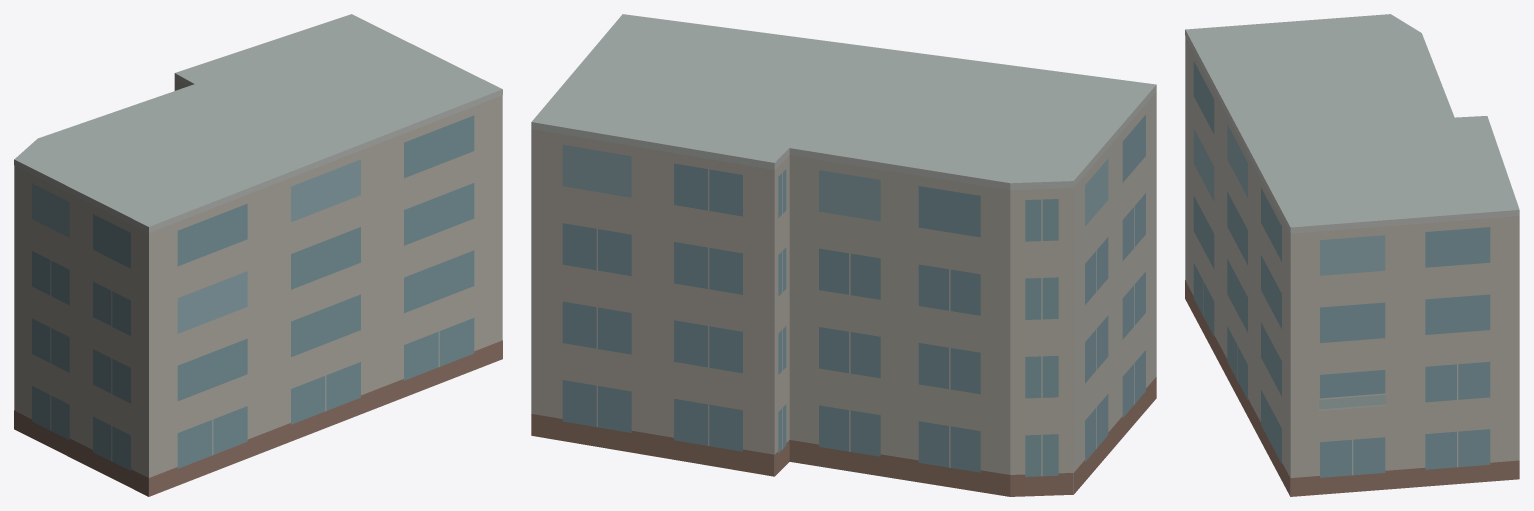
Rendered from survey-upis-32746595.glb.
The picture shows the model from 3 angles, left to right: view 1: azimuth 30°, elevation 25°; view 2: azimuth 150°, elevation 25°; view 3: azimuth 270°, elevation 25°; orthographic projection. The views are drawn at different scales.
Parts seen in each view (by area): view 1: survey-upis-32746595.tmp; view 2: survey-upis-32746595.tmp; view 3: survey-upis-32746595.tmp.
Part boxes in pixels (x1,y1,x2,y2): survey-upis-32746595.tmp: (14,14,502,496); survey-upis-32746595.tmp: (531,14,1156,496); survey-upis-32746595.tmp: (1185,14,1519,496).
Size of the model in its own units: 18.54 by 10.9 by 12.28.
